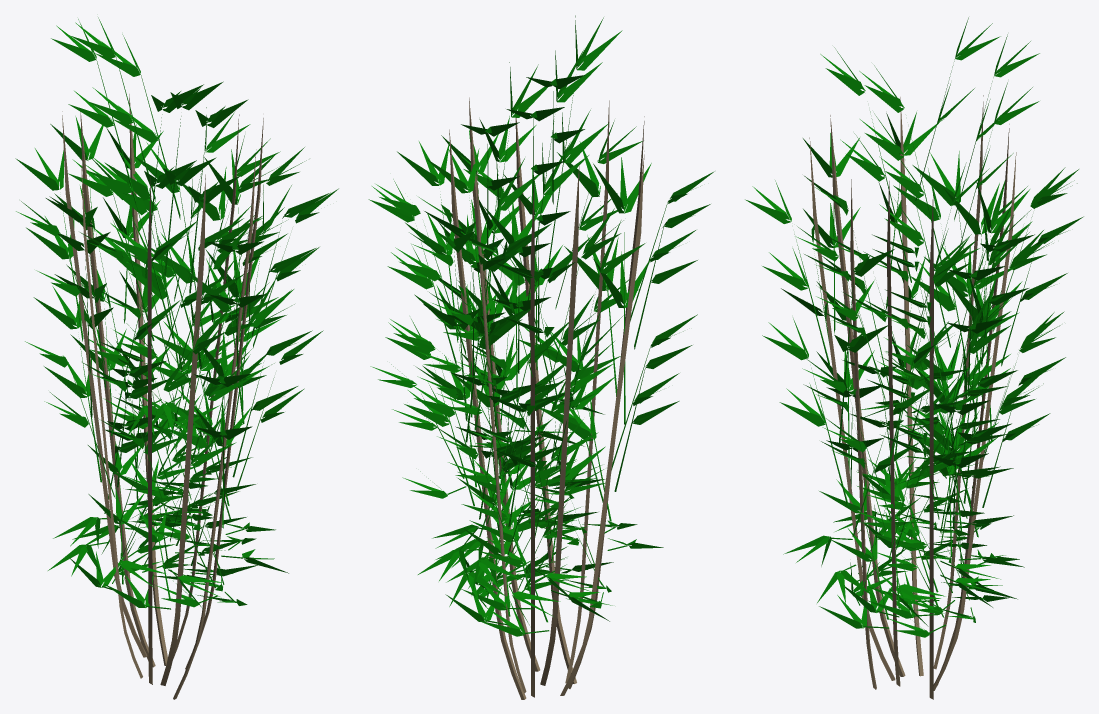
Rendered from Furniture_Interior-Artwork-Decoration_Gotessons_Bambu.fbx.
3 renders of one model, left to right at view 1: azimuth 30°, elevation 25°; view 2: azimuth 150°, elevation 25°; view 3: azimuth 270°, elevation 25°, orthographic. The views are drawn at different scales.
Parts seen in each view (by area): view 1: Mesh_3_d18495c2_ee6c_489a_bdf6_5163441ccbee, Mesh_41_4e93be37_b612_4de6_aa32_f59ceacaf052, Mesh_29_cb2a5a33_44f8_400b_aa57_7c551fd0d9fb, Mesh_15_e0b90372_e828_4fe6_862d_88ade769bf96, Mesh_11_413743d1_8849_4173_96f3_b65f8f5805ff, Mesh_19_31c7d38e_584f_4b8f_9fbc_dc9b53d8f371, Mesh_39_bddd4e1f_ba5c_4100_8ed2_9bedb8416e72, Mesh_1_e6516211_86a0_4f9e_9da3_c445930697a1, Mesh_17_580336ff_b611_47ba_bf29_725f41225307, Mesh_5_affc2678_26e7_4d6c_877a_629b4c22dbbd, Mesh_27_f0930739_1a11_465d_8292_cf5e9aec9920, Mesh_25_694cbb06_44e1_4313_b686_3185cb9525ad (+12 smaller); view 2: Mesh_29_cb2a5a33_44f8_400b_aa57_7c551fd0d9fb, Mesh_19_31c7d38e_584f_4b8f_9fbc_dc9b53d8f371, Mesh_41_4e93be37_b612_4de6_aa32_f59ceacaf052, Mesh_25_694cbb06_44e1_4313_b686_3185cb9525ad, Mesh_9_582bb652_0efa_4420_a5a3_2026893353b9, Mesh_27_f0930739_1a11_465d_8292_cf5e9aec9920, Mesh_17_580336ff_b611_47ba_bf29_725f41225307, Mesh_7_2b068e17_5812_4195_ab69_708abdf4ae43, Mesh_3_d18495c2_ee6c_489a_bdf6_5163441ccbee, Mesh_13_d63c3df9_0f79_4df8_94d8_7e0f780acee8, Mesh_11_413743d1_8849_4173_96f3_b65f8f5805ff, Mesh_1_e6516211_86a0_4f9e_9da3_c445930697a1 (+12 smaller); view 3: Mesh_15_e0b90372_e828_4fe6_862d_88ade769bf96, Mesh_9_582bb652_0efa_4420_a5a3_2026893353b9, Mesh_39_bddd4e1f_ba5c_4100_8ed2_9bedb8416e72, Mesh_25_694cbb06_44e1_4313_b686_3185cb9525ad, Mesh_11_413743d1_8849_4173_96f3_b65f8f5805ff, Mesh_5_affc2678_26e7_4d6c_877a_629b4c22dbbd, Mesh_13_d63c3df9_0f79_4df8_94d8_7e0f780acee8, Mesh_1_e6516211_86a0_4f9e_9da3_c445930697a1, Mesh_3_d18495c2_ee6c_489a_bdf6_5163441ccbee, Mesh_27_f0930739_1a11_465d_8292_cf5e9aec9920, Mesh_19_31c7d38e_584f_4b8f_9fbc_dc9b53d8f371, Mesh_17_580336ff_b611_47ba_bf29_725f41225307 (+12 smaller).
Part boxes in pixels (x1,y1,x2,y2): Mesh_3_d18495c2_ee6c_489a_bdf6_5163441ccbee: (70, 17, 263, 437); Mesh_41_4e93be37_b612_4de6_aa32_f59ceacaf052: (15, 148, 199, 583); Mesh_29_cb2a5a33_44f8_400b_aa57_7c551fd0d9fb: (16, 201, 205, 592); Mesh_15_e0b90372_e828_4fe6_862d_88ade769bf96: (125, 184, 293, 607); Mesh_11_413743d1_8849_4173_96f3_b65f8f5805ff: (80, 224, 253, 609); Mesh_19_31c7d38e_584f_4b8f_9fbc_dc9b53d8f371: (51, 19, 243, 439); Mesh_39_bddd4e1f_ba5c_4100_8ed2_9bedb8416e72: (140, 149, 330, 591); Mesh_1_e6516211_86a0_4f9e_9da3_c445930697a1: (95, 34, 287, 453); Mesh_17_580336ff_b611_47ba_bf29_725f41225307: (46, 116, 213, 557); Mesh_5_affc2678_26e7_4d6c_877a_629b4c22dbbd: (145, 167, 338, 605); Mesh_27_f0930739_1a11_465d_8292_cf5e9aec9920: (49, 124, 229, 572); Mesh_25_694cbb06_44e1_4313_b686_3185cb9525ad: (113, 142, 306, 574); Mesh_29_cb2a5a33_44f8_400b_aa57_7c551fd0d9fb: (518, 157, 710, 608); Mesh_19_31c7d38e_584f_4b8f_9fbc_dc9b53d8f371: (416, 50, 602, 483); Mesh_41_4e93be37_b612_4de6_aa32_f59ceacaf052: (461, 220, 645, 636); Mesh_25_694cbb06_44e1_4313_b686_3185cb9525ad: (397, 141, 577, 591); Mesh_9_582bb652_0efa_4420_a5a3_2026893353b9: (376, 184, 575, 595); Mesh_27_f0930739_1a11_465d_8292_cf5e9aec9920: (409, 232, 595, 625); Mesh_17_580336ff_b611_47ba_bf29_725f41225307: (453, 208, 623, 610); Mesh_7_2b068e17_5812_4195_ab69_708abdf4ae43: (425, 148, 605, 598); Mesh_3_d18495c2_ee6c_489a_bdf6_5163441ccbee: (436, 15, 622, 448); Mesh_13_d63c3df9_0f79_4df8_94d8_7e0f780acee8: (368, 179, 565, 607); Mesh_11_413743d1_8849_4173_96f3_b65f8f5805ff: (517, 141, 714, 592); Mesh_1_e6516211_86a0_4f9e_9da3_c445930697a1: (370, 62, 555, 498); Mesh_15_e0b90372_e828_4fe6_862d_88ade769bf96: (745, 180, 936, 605); Mesh_9_582bb652_0efa_4420_a5a3_2026893353b9: (864, 180, 1034, 614); Mesh_39_bddd4e1f_ba5c_4100_8ed2_9bedb8416e72: (796, 226, 982, 617); Mesh_25_694cbb06_44e1_4313_b686_3185cb9525ad: (857, 215, 1030, 618); Mesh_11_413743d1_8849_4173_96f3_b65f8f5805ff: (781, 133, 939, 581); Mesh_5_affc2678_26e7_4d6c_877a_629b4c22dbbd: (803, 237, 971, 628); Mesh_13_d63c3df9_0f79_4df8_94d8_7e0f780acee8: (853, 211, 1032, 637); Mesh_1_e6516211_86a0_4f9e_9da3_c445930697a1: (860, 82, 1039, 526); Mesh_3_d18495c2_ee6c_489a_bdf6_5163441ccbee: (820, 17, 1000, 462); Mesh_27_f0930739_1a11_465d_8292_cf5e9aec9920: (895, 183, 1083, 622); Mesh_19_31c7d38e_584f_4b8f_9fbc_dc9b53d8f371: (859, 34, 1039, 479); Mesh_17_580336ff_b611_47ba_bf29_725f41225307: (884, 151, 1078, 591).
Bounding box in the file's own units: 934 × 937 × 1967.
